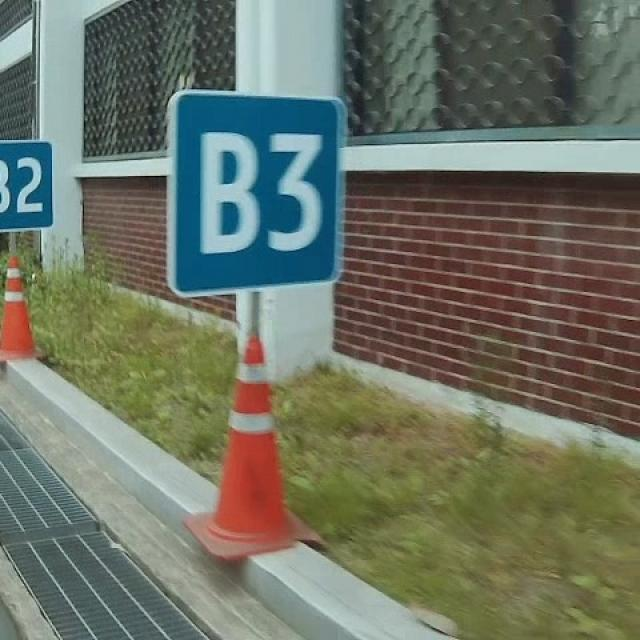b3: (161, 86, 346, 298)
